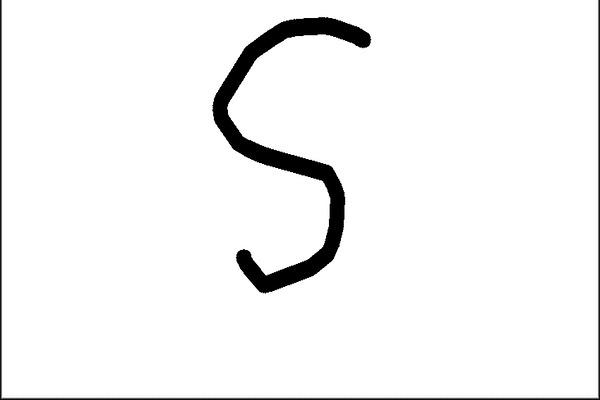S: (205, 9, 376, 295)
